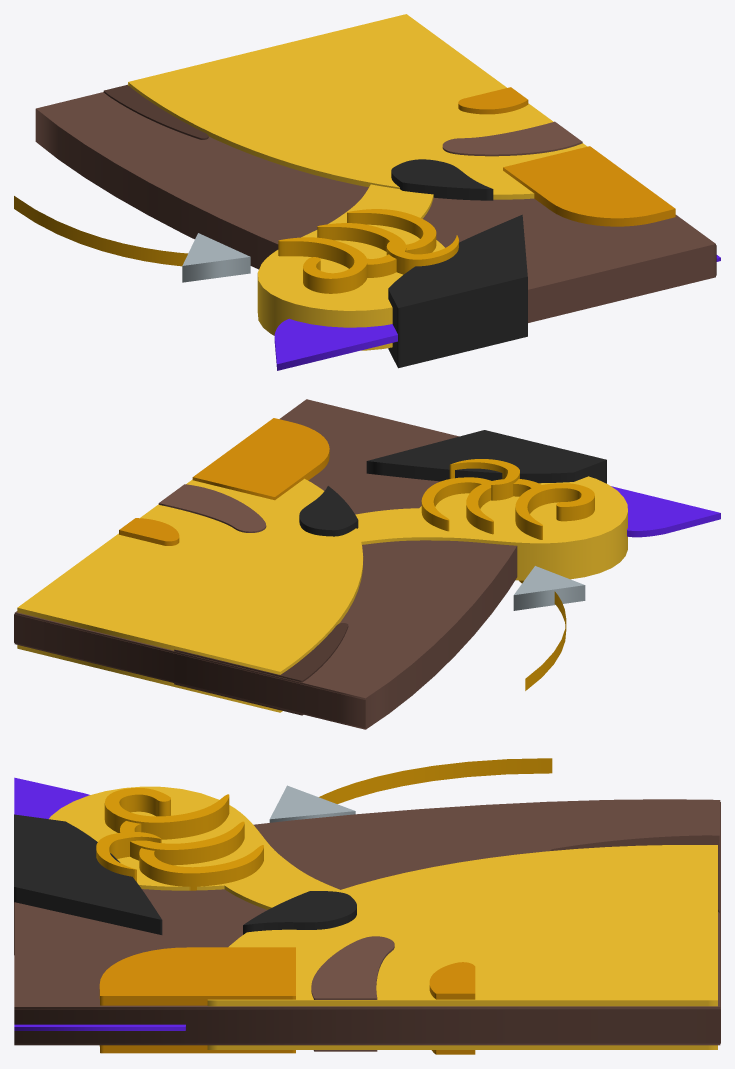
File: emoji_u1f9cf_200d_2640.glb
3 views of the same model, one above another, from view 1: azimuth 30°, elevation 25°; view 2: azimuth 150°, elevation 25°; view 3: azimuth 270°, elevation 25° (orthographic). The views are drawn at different scales.
Parts seen in each view (by area): view 1: emoji_u1f9cf_200d_2640; view 2: emoji_u1f9cf_200d_2640; view 3: emoji_u1f9cf_200d_2640.
Part boxes in pixels (left/top/right/bottom): emoji_u1f9cf_200d_2640: left=14, top=14, right=720, bottom=370; emoji_u1f9cf_200d_2640: left=14, top=399, right=720, bottom=729; emoji_u1f9cf_200d_2640: left=14, top=758, right=720, bottom=1054.
Size of the model in its own units: 0.0296 by 0.0044 by 0.0336.
